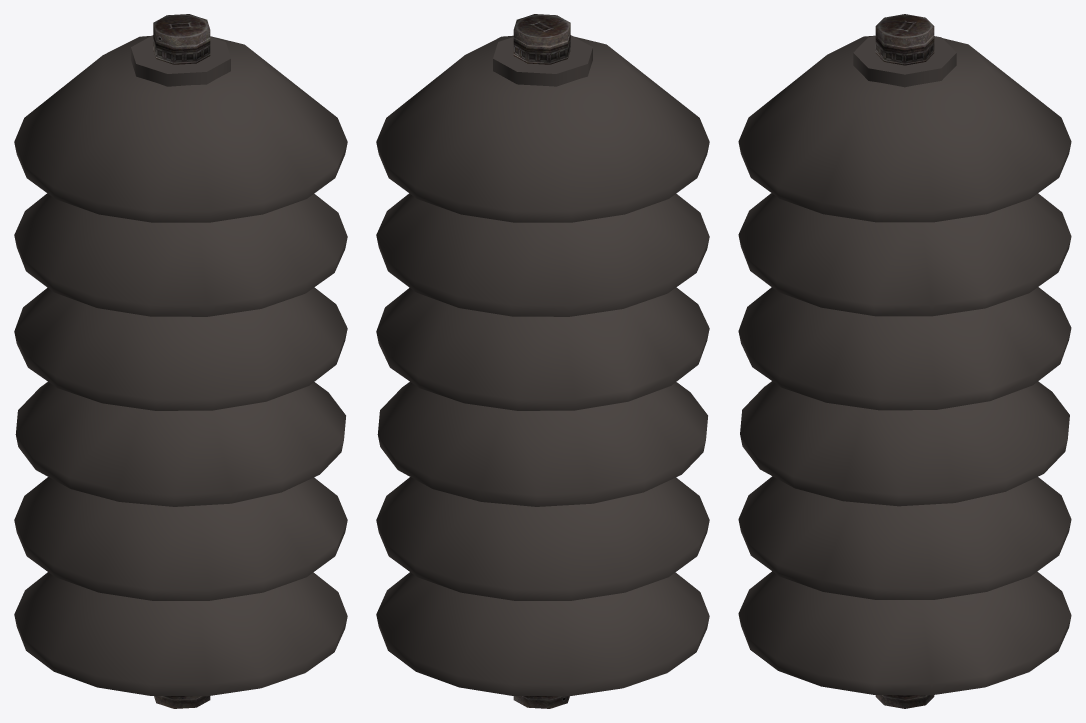
File: replacement_part_transformer_bushing.dae
3 views of the same model, side by side, from view 1: azimuth 30°, elevation 25°; view 2: azimuth 150°, elevation 25°; view 3: azimuth 270°, elevation 25° (orthographic).
Parts seen in each view (by area): view 1: polySurface38; view 2: polySurface38; view 3: polySurface38.
Part boxes in pixels (x1,y1,x2,y2): polySurface38: [14, 14, 347, 708]; polySurface38: [376, 14, 709, 708]; polySurface38: [738, 14, 1071, 708].
Size of the model in its own units: 0.867 by 1.93 by 0.8676.
Materials: 1 (1 with a texture image).
